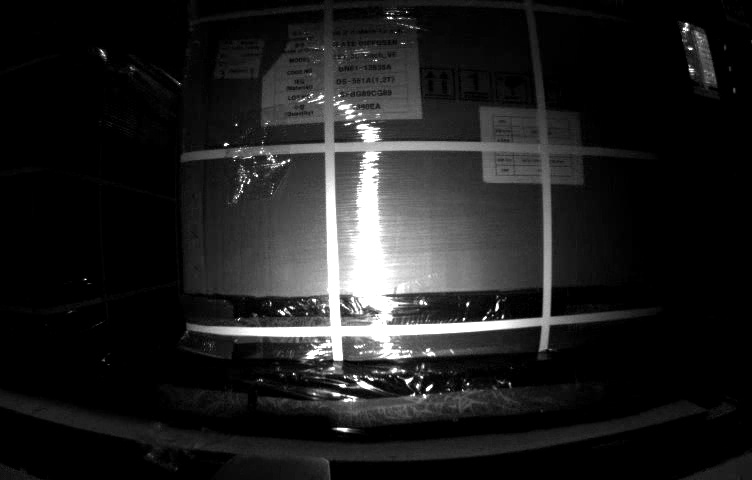True Barcode: (216, 40, 264, 79)
